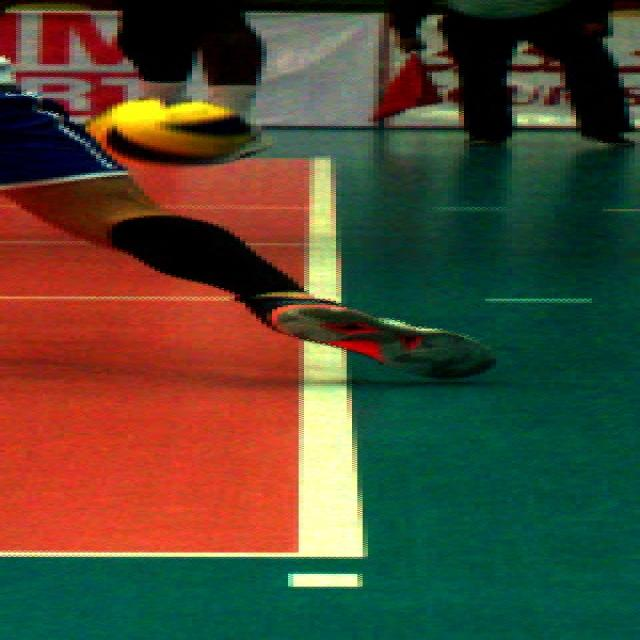Volleyball: (85, 97, 262, 167)
